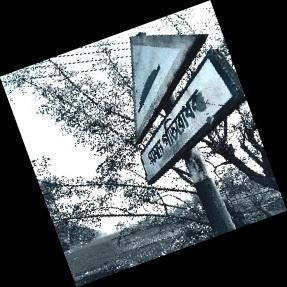Speed-breaker: (128, 32, 237, 182)
